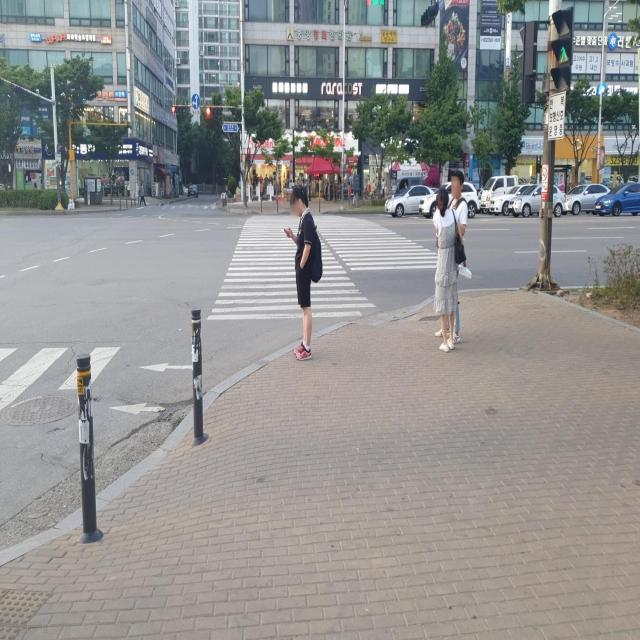빨간불: (245, 146, 252, 170)
초록불: (549, 8, 574, 95)
횡단보도: (208, 215, 464, 321), (0, 342, 120, 420)
